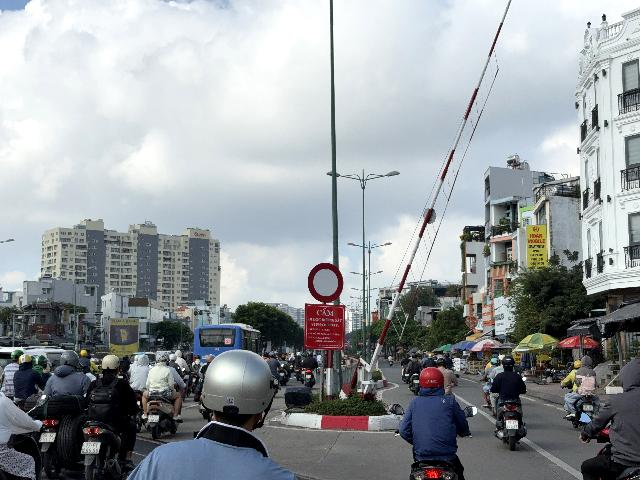duong-cam: (307, 262, 344, 303)
